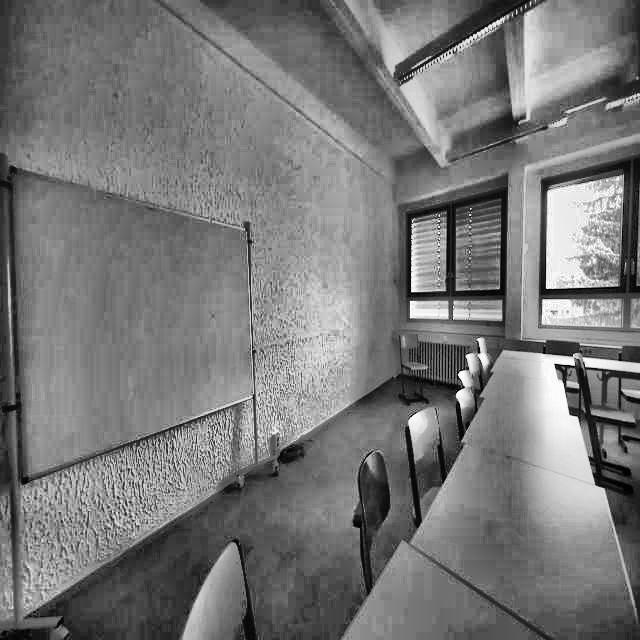ff: (144, 92, 410, 274)
